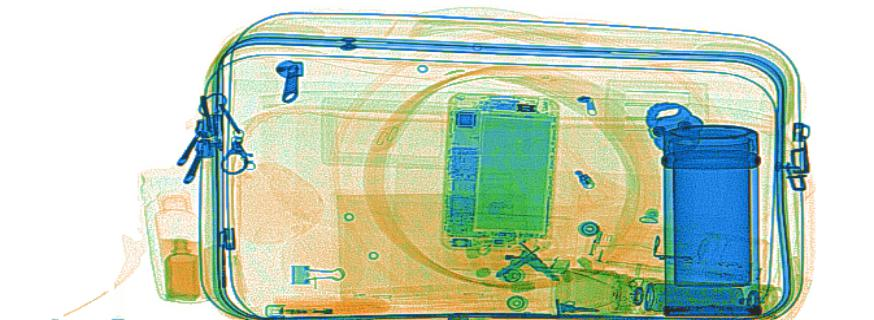battery: (644, 280, 747, 315)
lighter: (446, 250, 572, 274), (259, 297, 391, 316)
